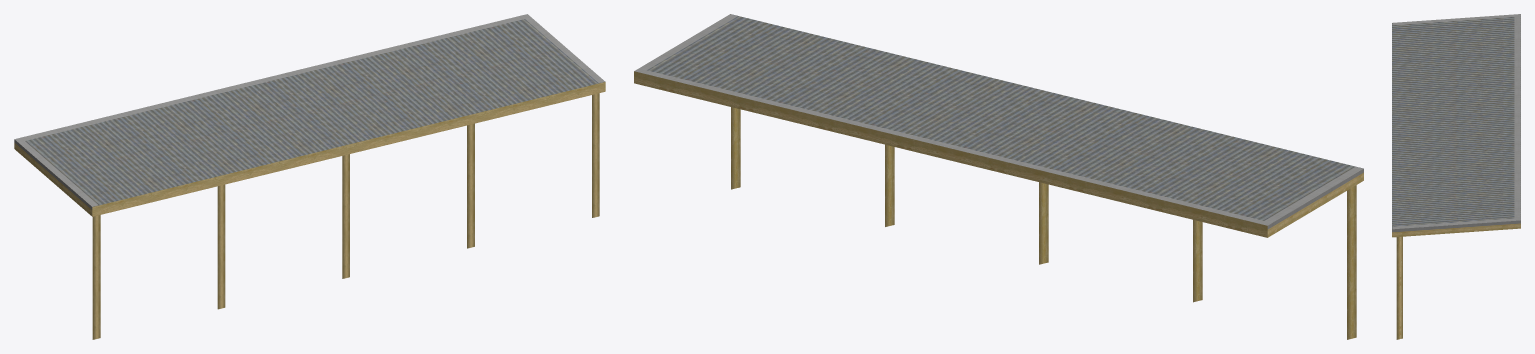
File: terminal-tiny-07-veranda-12x3-cbj_LOD02.gltf
The picture shows the model from 3 angles, left to right: view 1: azimuth 30°, elevation 25°; view 2: azimuth 150°, elevation 25°; view 3: azimuth 270°, elevation 25°; orthographic projection. The views are drawn at different scales.
Visible parts, largest first — view 1: veranda02; view 2: veranda02; view 3: veranda02.
Boxes of the visible parts, bbox=[...] form: veranda02: bbox=[14, 14, 605, 339]; veranda02: bbox=[634, 14, 1363, 339]; veranda02: bbox=[1392, 14, 1520, 339].
Bounding box in the file's own units: 12 × 3.27 × 3.16.
